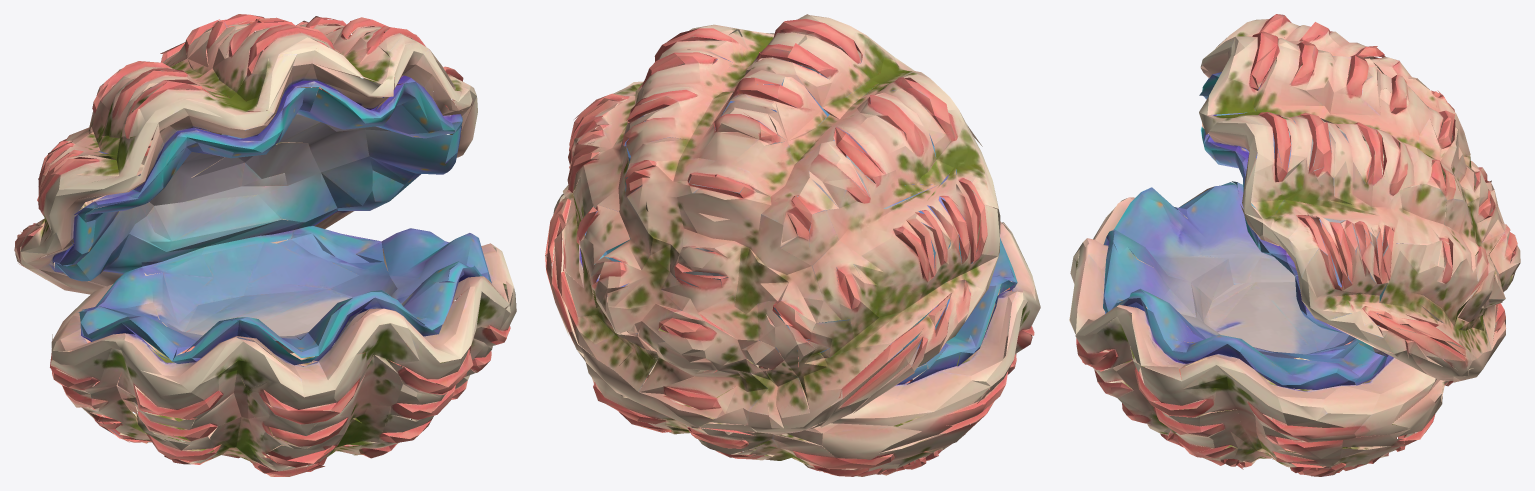
The model's file is east_clam.glb.
The picture shows the model from 3 angles, left to right: view 1: azimuth 30°, elevation 25°; view 2: azimuth 150°, elevation 25°; view 3: azimuth 270°, elevation 25°; orthographic projection. The views are drawn at different scales.
Visible parts, largest first — view 1: Mesh_0; view 2: Mesh_0; view 3: Mesh_0.
Boxes of the visible parts, x1,y1,x2,y2 form: Mesh_0: (14,14,516,476); Mesh_0: (545,14,1040,476); Mesh_0: (1069,14,1520,476).
Bounding box in the file's own units: 3.4 × 3.26 × 3.29.
1 material, 1 textured.
